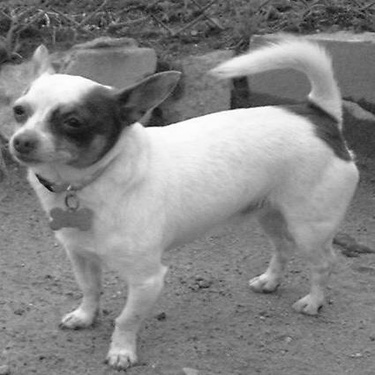dog: (9, 35, 363, 370)
